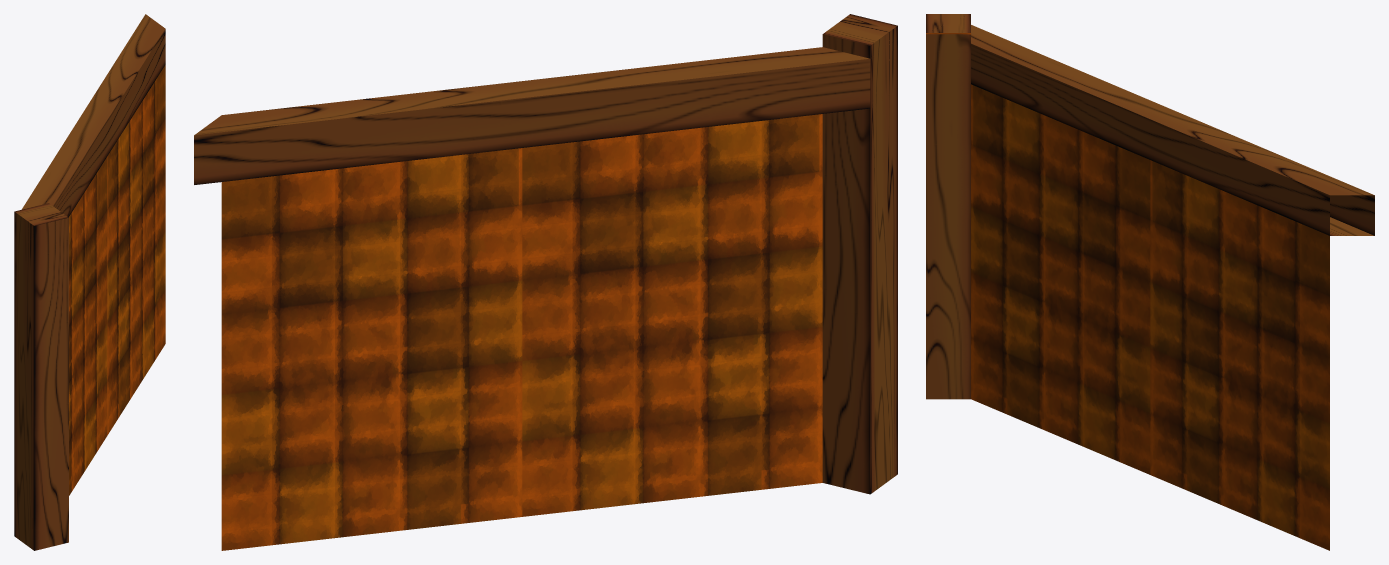
The model's file is MTile_24.fbx.
3 renders of one model, left to right at view 1: azimuth 30°, elevation 25°; view 2: azimuth 150°, elevation 25°; view 3: azimuth 270°, elevation 25°, orthographic. The views are drawn at different scales.
Visible parts, largest first — view 1: MTile_24; view 2: MTile_24; view 3: MTile_24.
Boxes of the visible parts, left/top/right/bottom form: MTile_24: left=14, top=14, right=165, bottom=550; MTile_24: left=194, top=14, right=897, bottom=550; MTile_24: left=926, top=14, right=1374, bottom=550.
Size of the model in its own units: 286 by 287 by 318.
